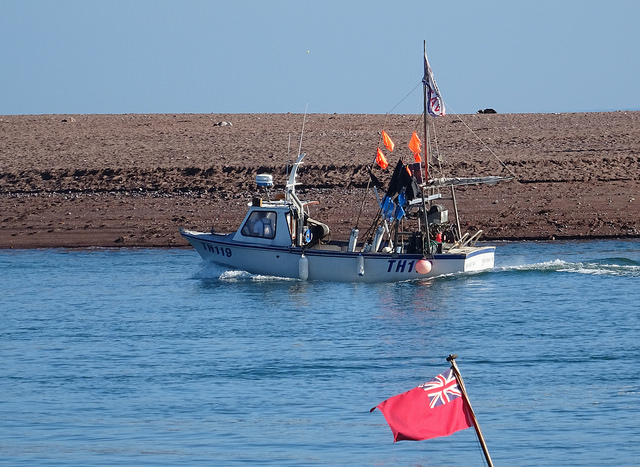fishing_boat: (185, 60, 500, 291)
